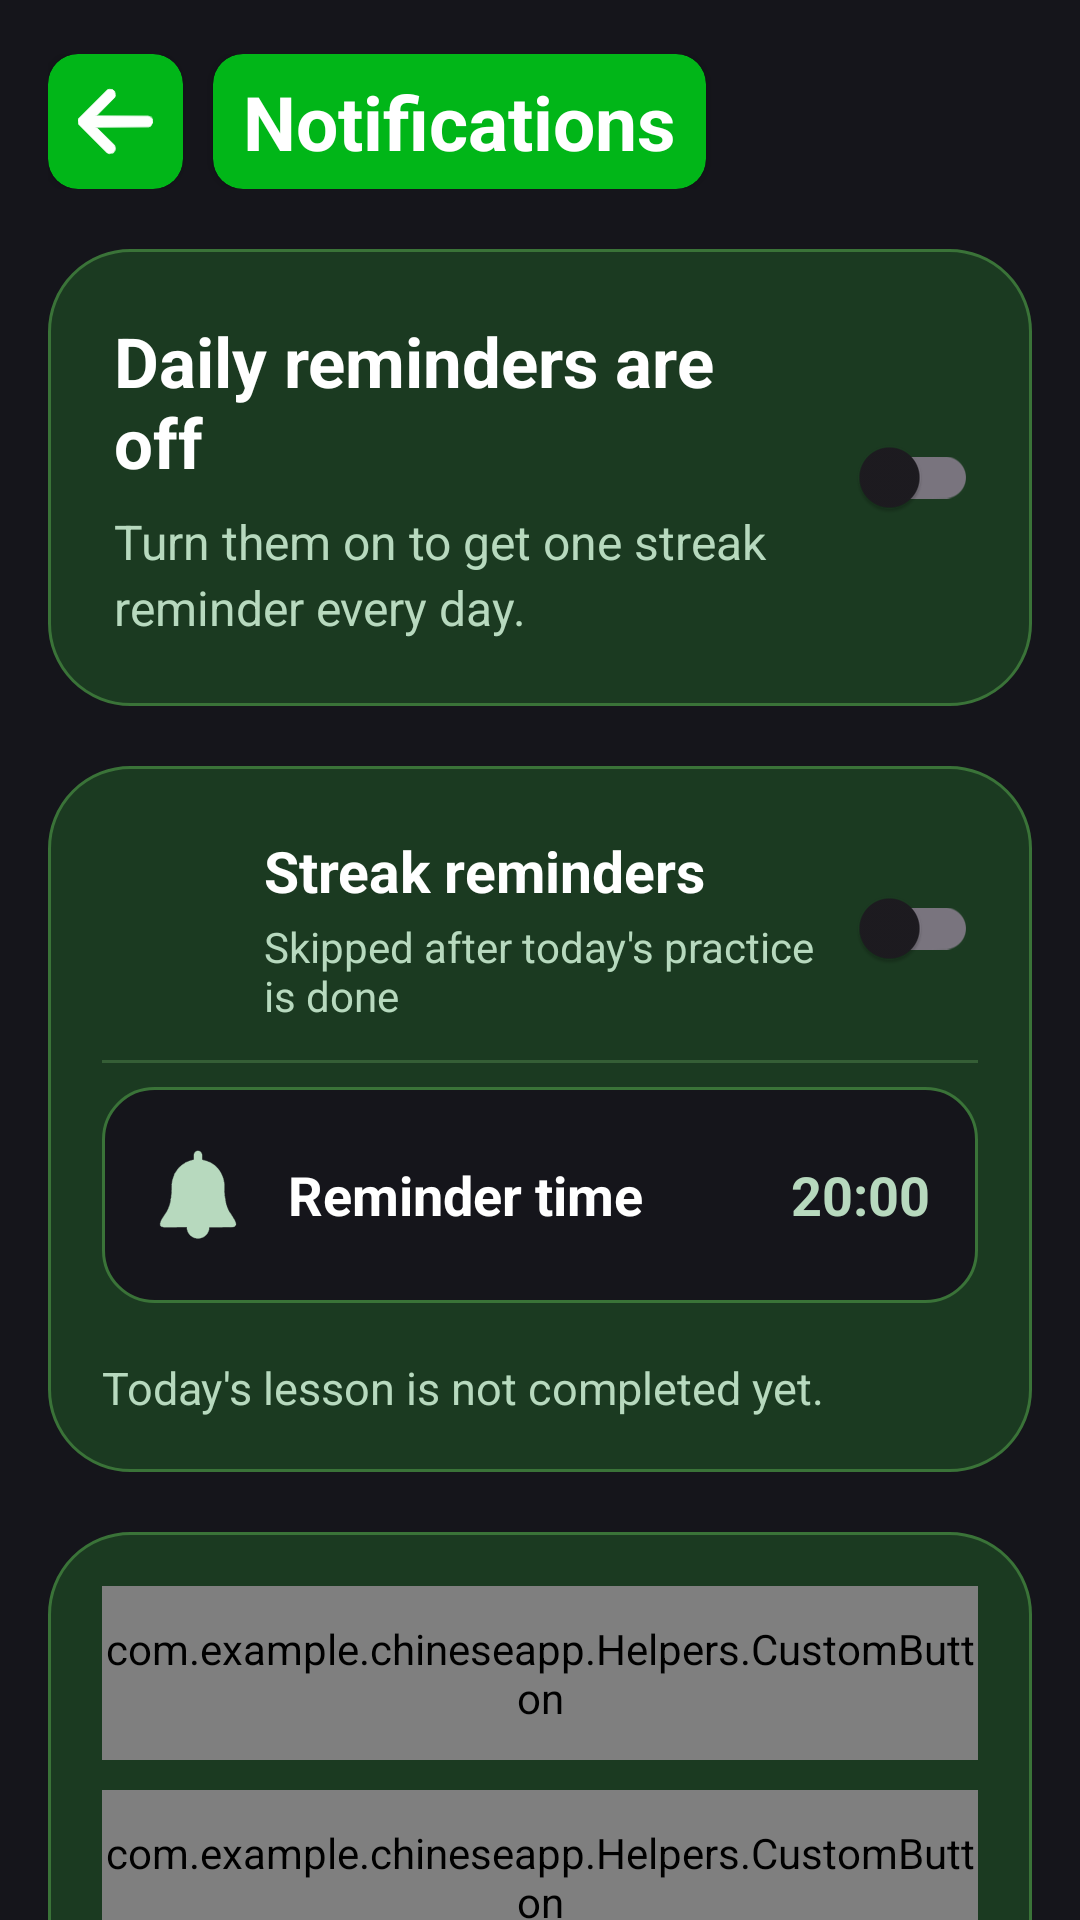

Screen size 1080x1920. Icon name, then its box in pixels as (x1=x1, y1=y1, x2=x2, y2=y2):
back: (x1=78, y1=88, x2=153, y2=155)
notifications: (x1=160, y1=1150, x2=236, y2=1239)
